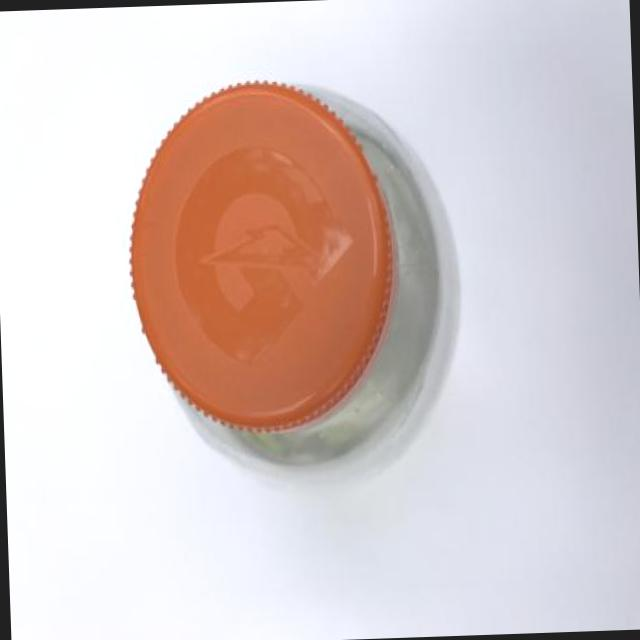Trash: (124, 73, 401, 432)
